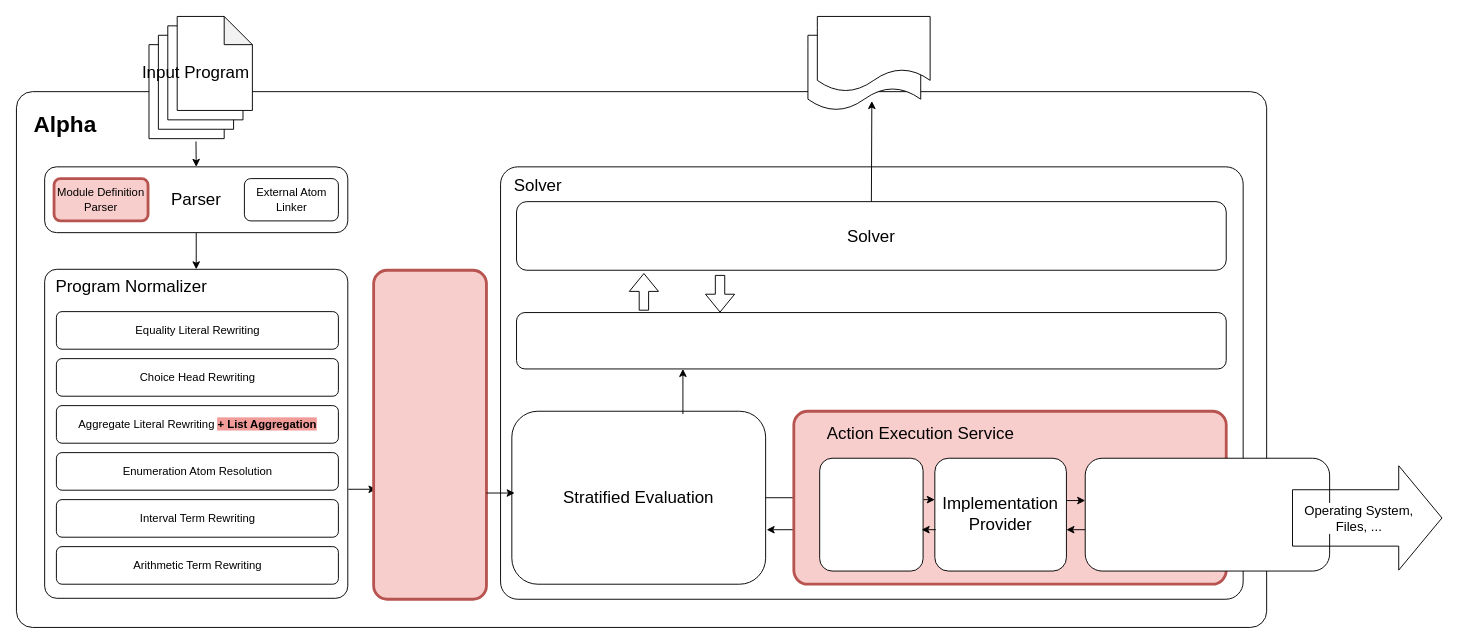
This 1459x644 diagram has some shape labels left out. The centre of each missing label's shape, as x and y in pixels:
Answer Set(s): the point at 873,54
Grounder: the point at 871,340
Module Atom Compiler: the point at 429,434
Native APIs (Java): the point at 1207,514
Result Cache: the point at 871,514
